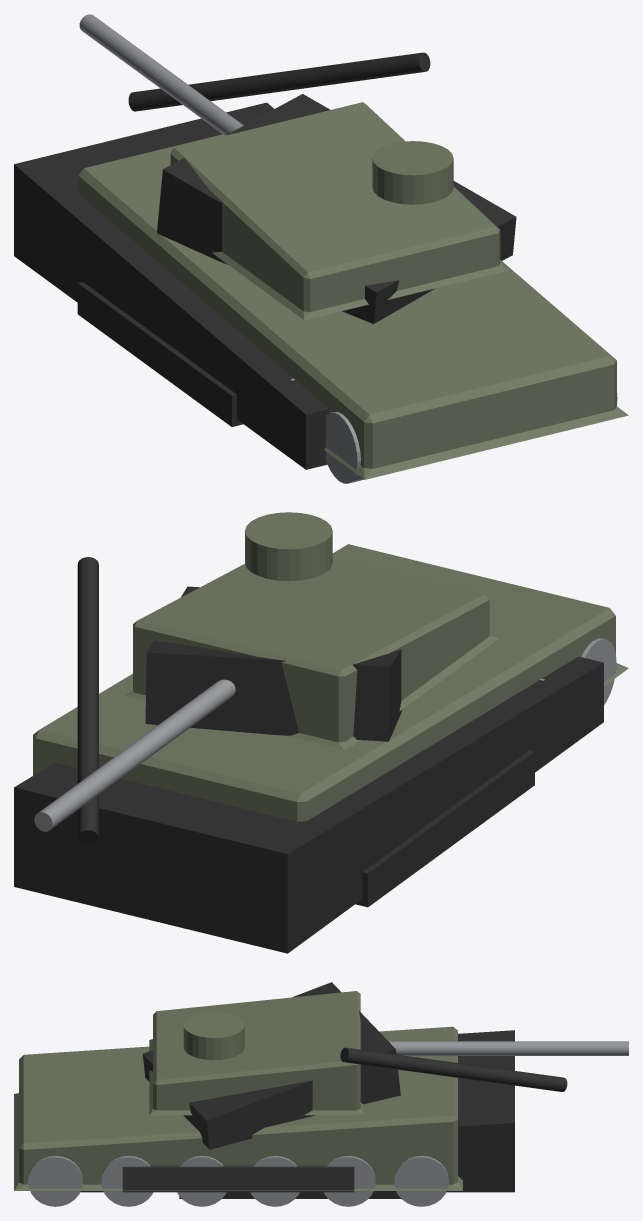
File: Tank.fbx
3 views of the same model, one above another, from view 1: azimuth 30°, elevation 25°; view 2: azimuth 150°, elevation 25°; view 3: azimuth 270°, elevation 25° (orthographic). The views are drawn at different scales.
Parts seen in each view (by area): view 1: Tank_Intact, Tank_Wreck; view 2: Tank_Wreck, Tank_Intact; view 3: Tank_Intact, Tank_Wreck.
Boxes of the visible parts, x1,y1,x2,y2 form: Tank_Intact: (78,14,628,483); Tank_Wreck: (14,52,516,469); Tank_Wreck: (14,557,603,953); Tank_Intact: (33,512,628,831); Tank_Intact: (14,991,628,1206); Tank_Wreck: (80,982,567,1198).
Size of the model in its own units: 441 by 298 by 1008.
